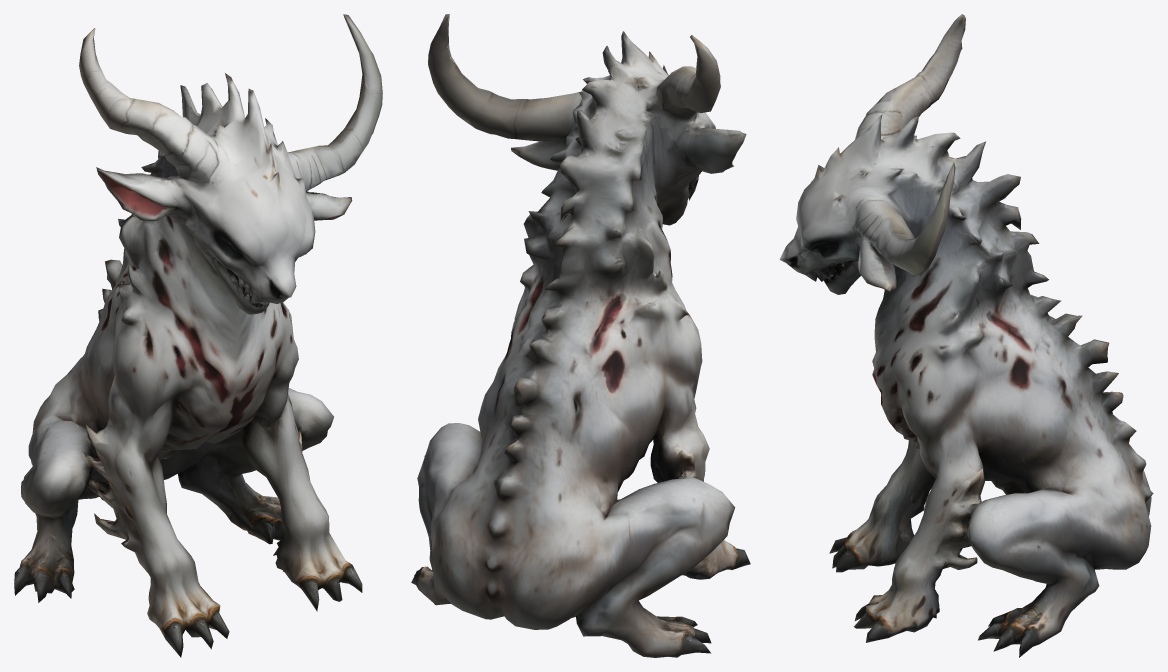
The model's file is Bonehorn.glb.
The picture shows the model from 3 angles, left to right: view 1: azimuth 30°, elevation 25°; view 2: azimuth 150°, elevation 25°; view 3: azimuth 270°, elevation 25°; orthographic projection. The views are drawn at different scales.
Size of the model in its own units: 1.11 by 1.91 by 1.21.
1 material, 1 textured.
